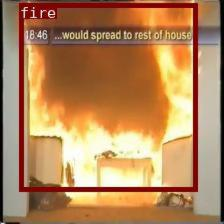fire: (19, 2, 197, 190)
